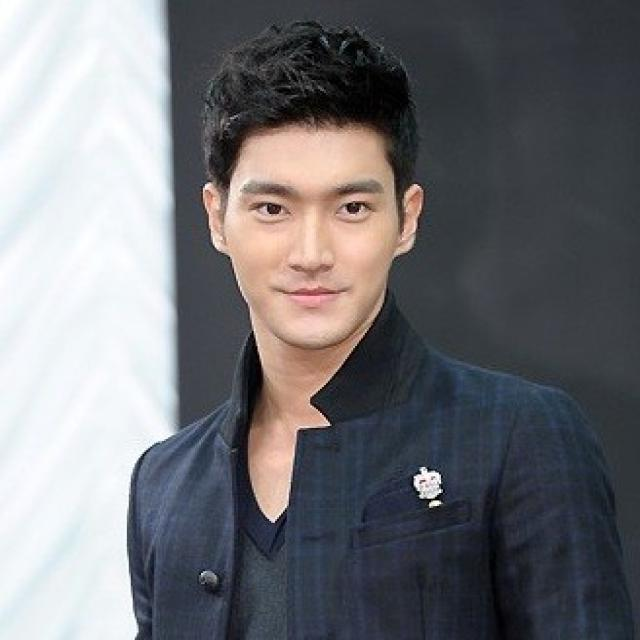mobile_phonerotation: (123, 17, 634, 638)
